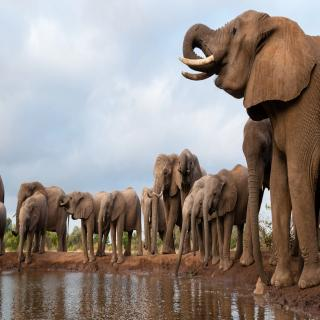Elephant: (177, 6, 320, 307), (200, 161, 256, 274), (94, 182, 147, 268), (55, 187, 114, 259), (172, 144, 209, 251), (149, 151, 182, 255), (15, 193, 50, 269)
